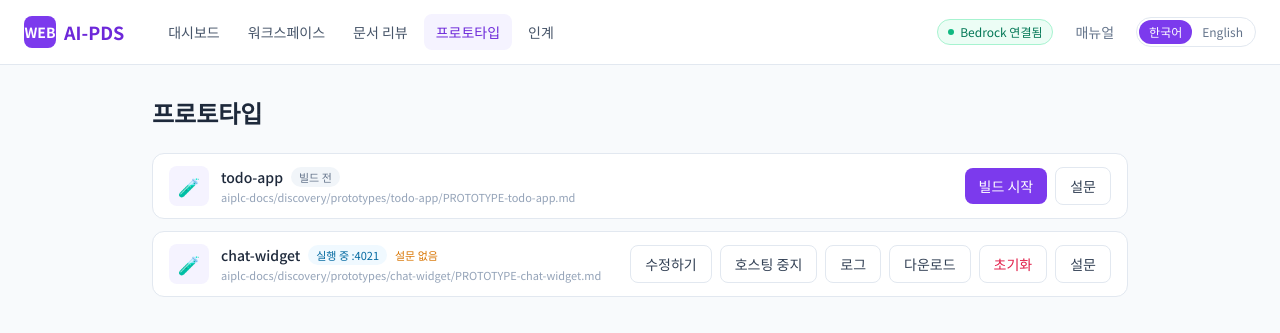
Test: Prototypes page › Stop hosting failure is shown on the card
The width and height of the screenshot is (1280, 333).
Expected: the text "chat-widget" is shown, [221,245,300,265]
What coordinates should you click on to do the following:
click the button "호스팅 중지"
I would click on:
 (768, 264)
Its box is [720,245,817,283].
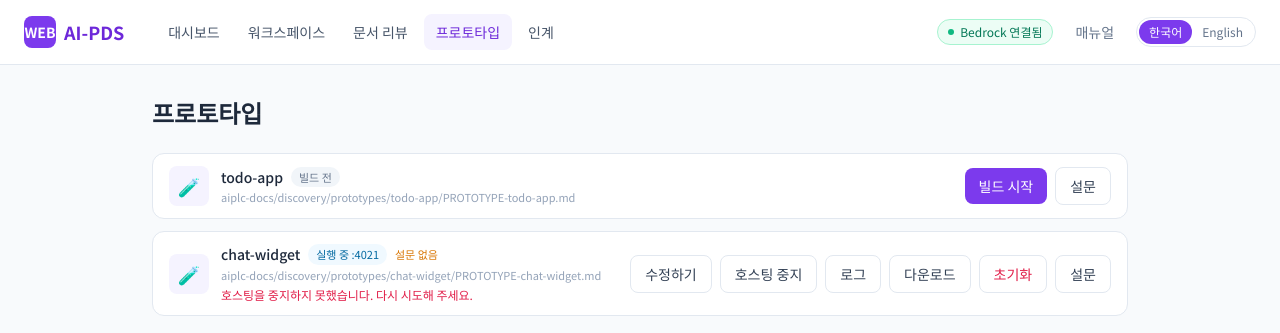
Expected: the message shows "호스팅을 중지하지 못했습니다", [221,286,473,303]
